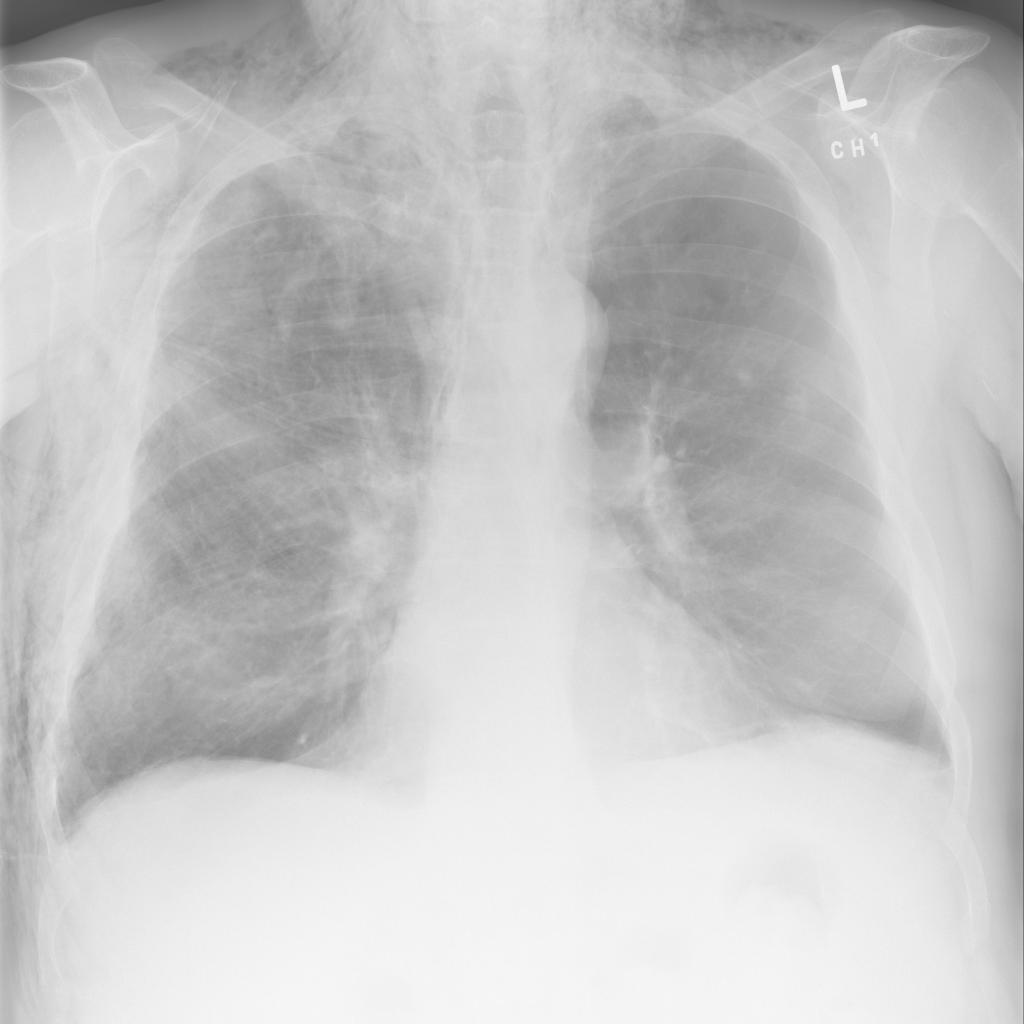Nodule: (35, 151, 53, 170), (151, 41, 169, 58), (83, 123, 101, 139)
